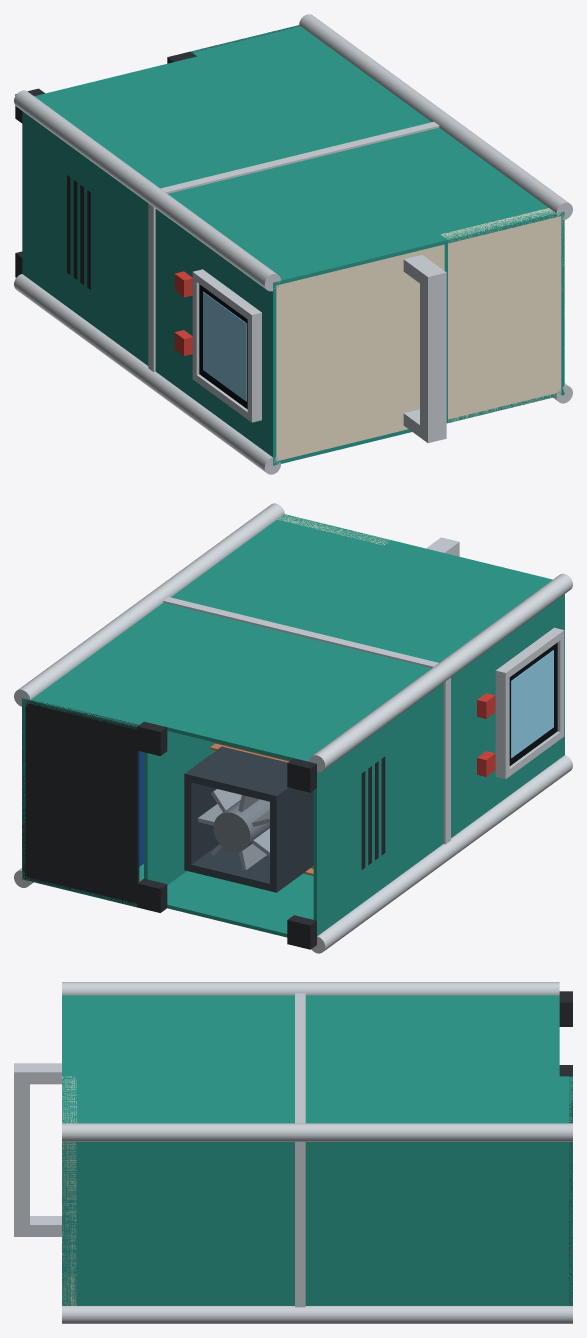
The model's file is thermox_retro.obj.
3 views of the same model, one above another, from view 1: azimuth 30°, elevation 25°; view 2: azimuth 150°, elevation 25°; view 3: azimuth 270°, elevation 25° (orthographic).
Visible parts, largest first — view 1: side_R, front_wall, back_side_R, lid, back_top, corner_bead_2, corner_bead_1, corner_bead_4, handle_bar, oled_screen, belt_side_R, oled_bezel_t (+7 smaller); view 2: side_R, front_wall, back_side_R, back_floor, divider, side_L, corner_bead_2, corner_bead_4, corner_bead_1, fan_frame_b, fan_frame_c, oled_screen (+16 smaller); view 3: rear_wall, side_R, back_side_R, corner_bead_4, corner_bead_3, corner_bead_2, handle_bar, belt_rear, back_top, belt_side_R, divider, handle_post_R (+3 smaller).
Part boxes in pixels (<box>): side_R: <box>34,56,447,285</box>; front_wall: <box>22,111,276,465</box>; back_side_R: <box>191,25,564,243</box>; lid: <box>276,244,444,460</box>; back_top: <box>441,208,564,422</box>; corner_bead_2: <box>14,90,280,291</box>; corner_bead_1: <box>14,274,280,474</box>; corner_bead_4: <box>299,14,572,220</box>; handle_bar: <box>420,266,446,443</box>; oled_screen: <box>203,291,246,401</box>; belt_side_R: <box>160,122,439,193</box>; oled_bezel_t: <box>247,310,261,422</box>; side_R: <box>144,540,552,761</box>; front_wall: <box>313,594,564,936</box>; back_side_R: <box>22,514,391,729</box>; back_floor: <box>22,699,139,906</box>; divider: <box>144,540,392,884</box>; side_L: <box>167,871,313,937</box>; corner_bead_2: <box>309,573,572,772</box>; corner_bead_4: <box>14,503,284,706</box>; corner_bead_1: <box>311,755,572,953</box>; fan_frame_b: <box>184,746,295,803</box>; fan_frame_c: <box>270,789,313,885</box>; oled_screen: <box>511,650,553,758</box>; rear_wall: <box>62,1142,572,1305</box>; side_R: <box>62,995,559,1076</box>; back_side_R: <box>62,1076,572,1123</box>; corner_bead_4: <box>62,1123,572,1141</box>; corner_bead_3: <box>62,1306,572,1323</box>; corner_bead_2: <box>62,982,559,995</box>; handle_bar: <box>14,1063,29,1236</box>; belt_rear: <box>295,1142,305,1307</box>; back_top: <box>62,1076,76,1305</box>; belt_side_R: <box>295,993,305,1123</box>; divider: <box>62,1074,559,1076</box>; handle_post_R: <box>30,1063,61,1084</box>.
Bounding box in the file's own units: 133 × 82 × 209.
